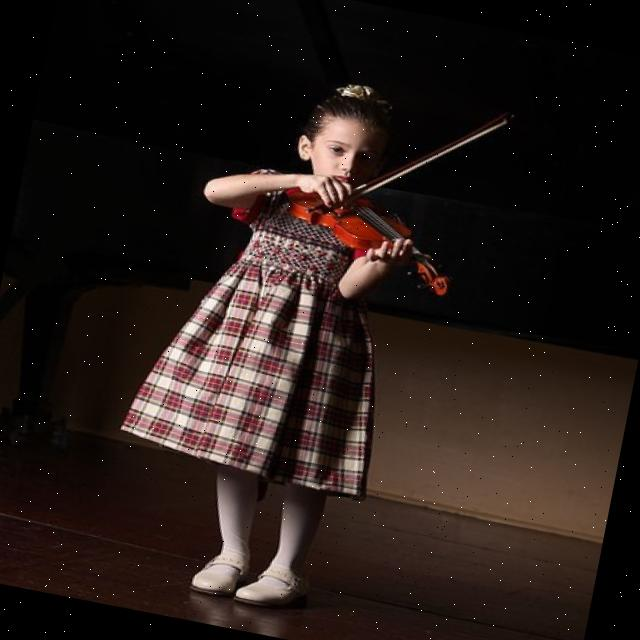violin: (270, 165, 472, 303)
